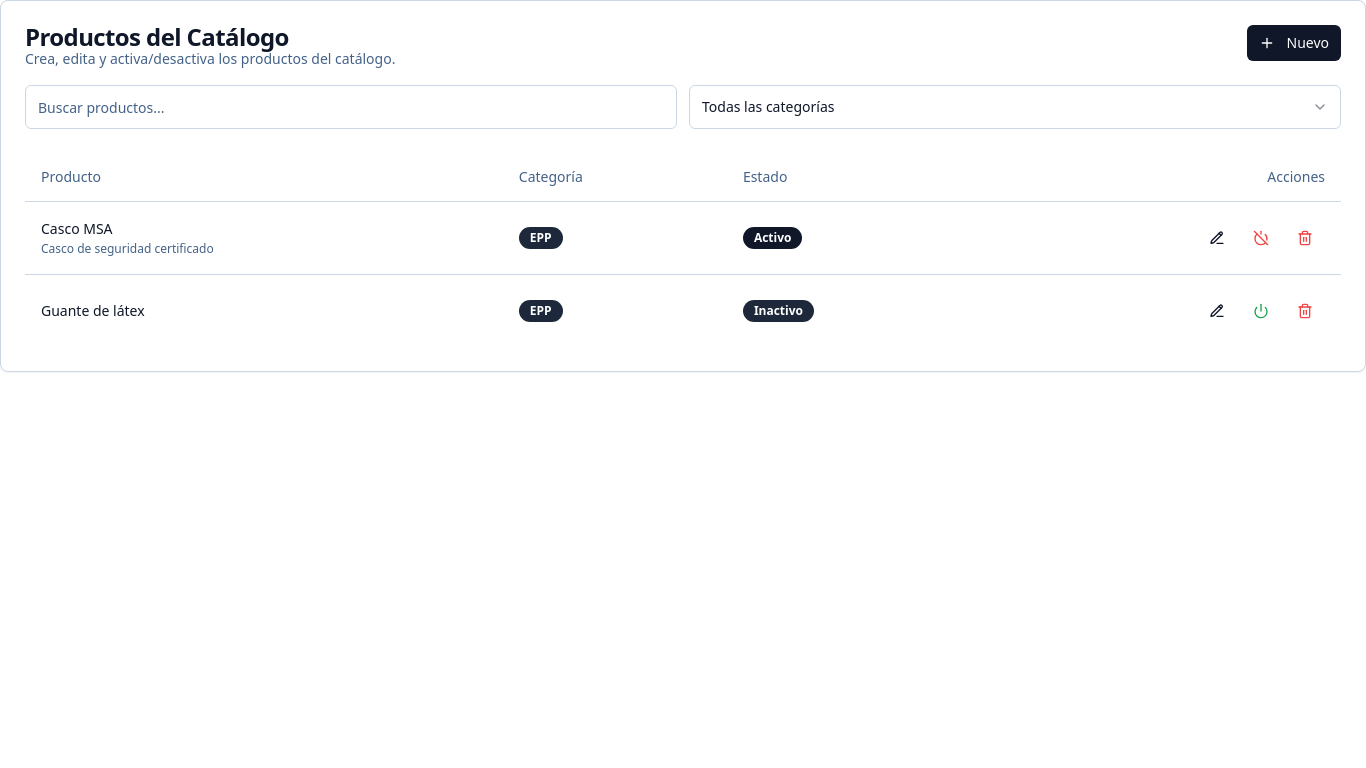
Test: ProductManager — persistence (HU-2.3) › opens delete confirmation dialog when Eliminar button is clicked
The width and height of the screenshot is (1366, 768).
Expected: the text "Casco MSA" is shown, [41,218,113,238]
Click the button named "eliminar casco msa".
click(1305, 238)  # box [1285,218,1325,258]
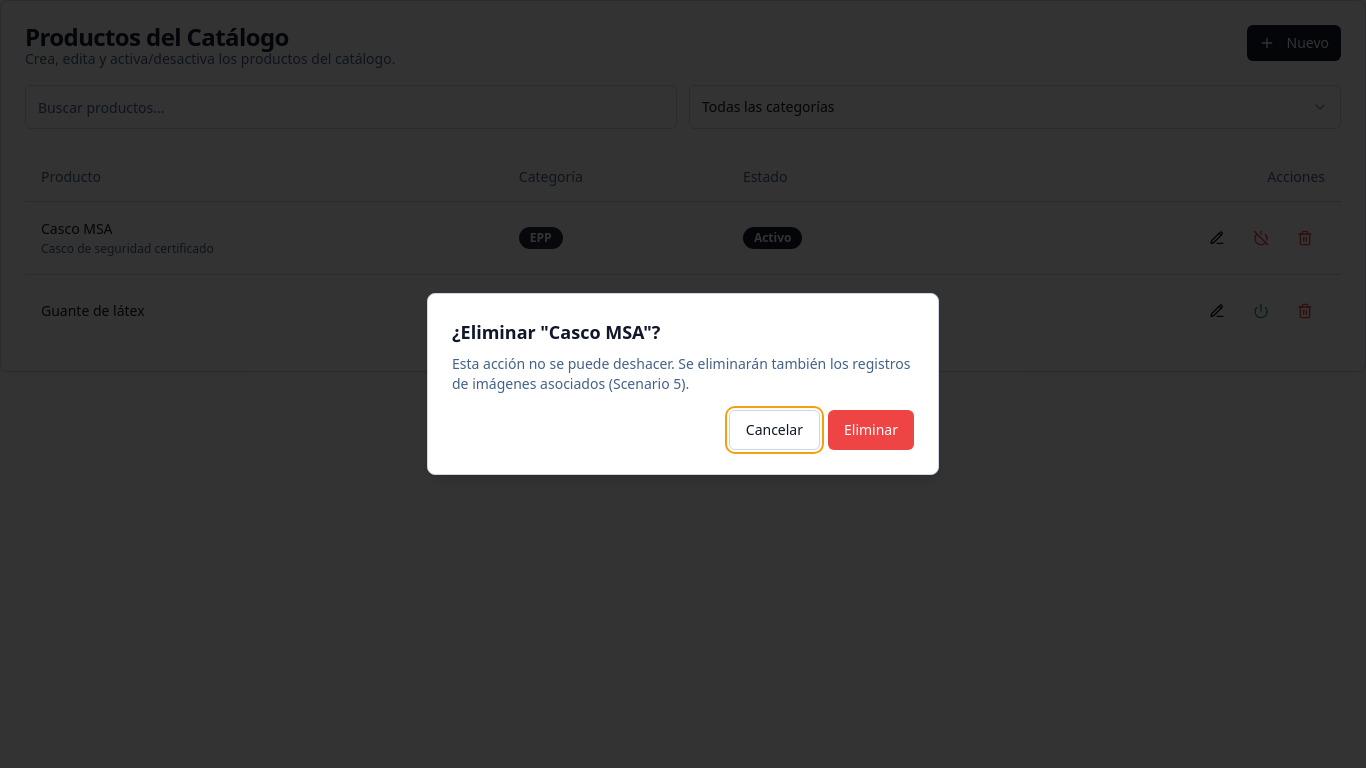
Expected: the dialog is shown, [427,293,939,475]
Expected: the heading "¿Eliminar \"Casco MSA\"?" is shown, [452,320,660,344]
